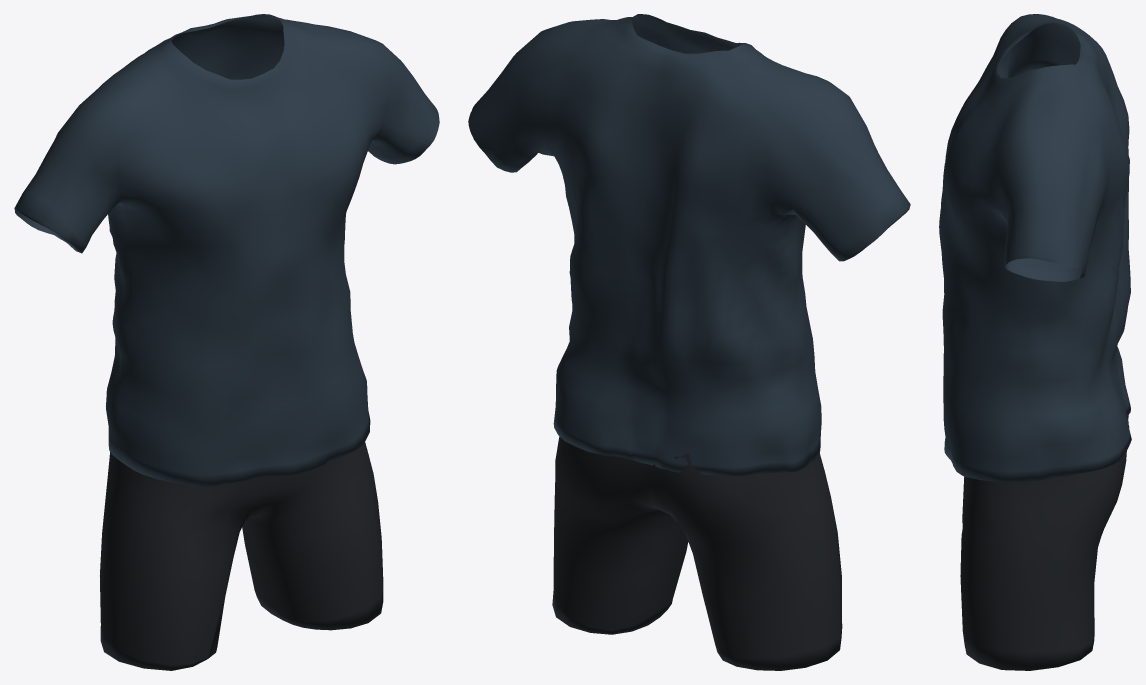
Rendered from male-athletic-outfit.glb.
3 views of the same model, side by side, from view 1: azimuth 30°, elevation 25°; view 2: azimuth 150°, elevation 25°; view 3: azimuth 270°, elevation 25° (orthographic). The views are drawn at different scales.
Visible parts, largest first — view 1: sport-shirt, shorts; view 2: sport-shirt, shorts; view 3: sport-shirt, shorts.
Boxes of the visible parts, x1,y1,x2,y2 form: sport-shirt: [14, 14, 439, 487]; shorts: [100, 442, 383, 670]; sport-shirt: [468, 14, 910, 476]; shorts: [552, 436, 842, 670]; sport-shirt: [939, 14, 1131, 482]; shorts: [960, 393, 1128, 670].
Bounding box in the file's own units: 0.99 × 1.34 × 0.4129.
